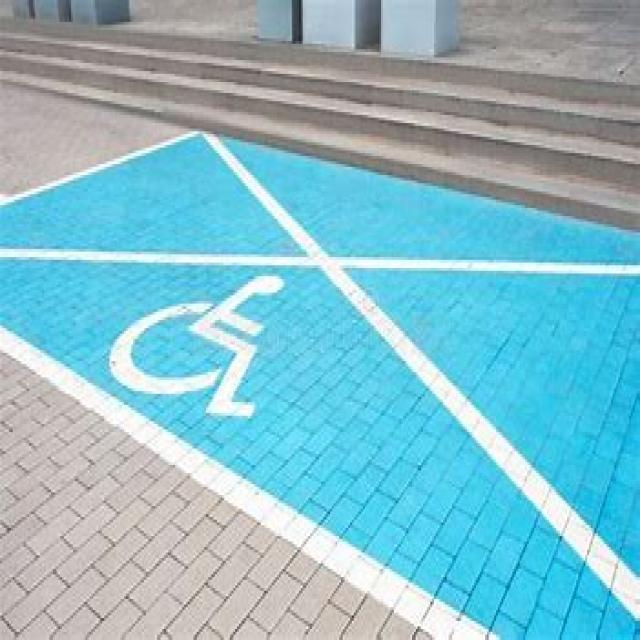car-handicap-placard: (108, 271, 290, 420)
